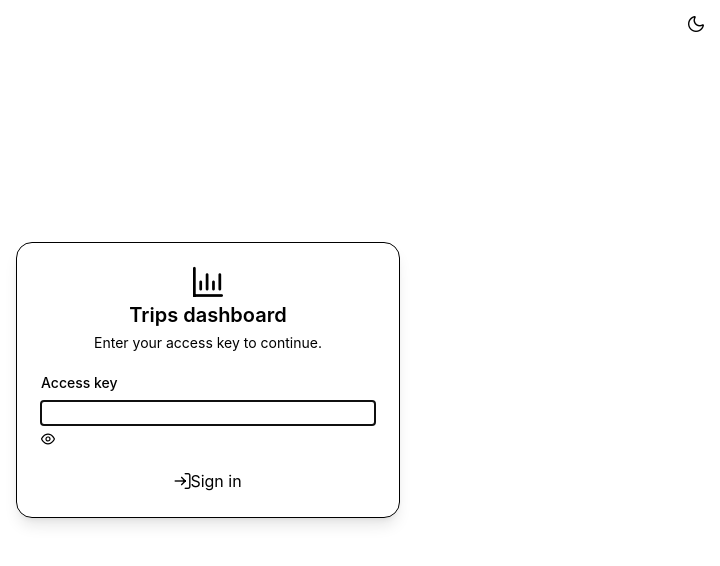
Test: authentication flow › shows an error for a wrong key and stays on the login page
Type "wrong-key" into the password field labelled "Access key" at (208, 413), box [41,401,375,425]
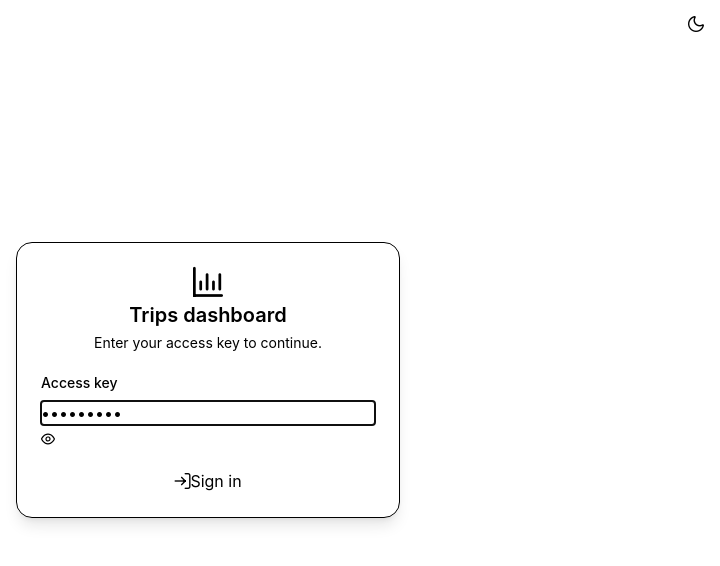
Click the button "Sign in" at (208, 481), box [41,469,375,493]
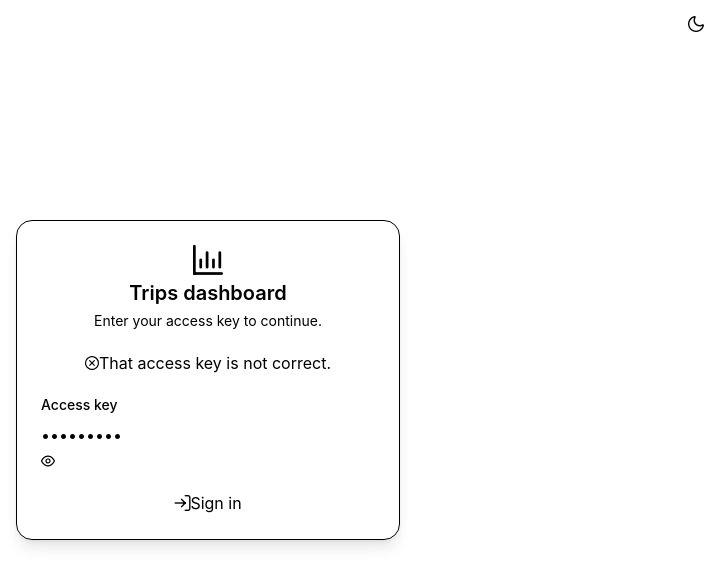
Now the text "That access key is not correct." is shown, box [99,351,331,375]
